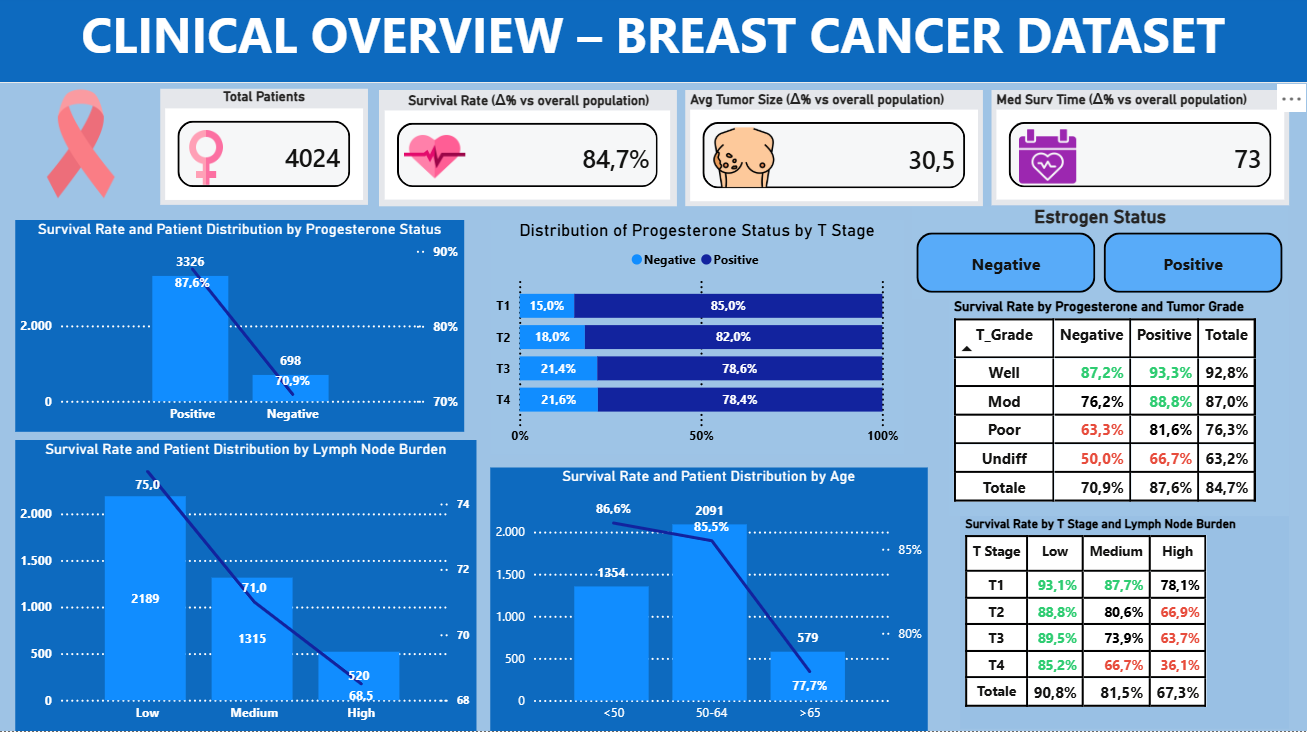

The dashboard page shown, as its layout file describes it:
{"tool":"powerbi","page":{"name":"Pagina 2","canvas":[1280,720],"ordinal":1},"visuals":[{"type":"cardVisual","title":"Survival Rate (Δ% vs overall population)","fields":{"Data":["dati.KPI Survival"]},"box":[371.7,92.9,291,113.7],"z":0},{"type":"advancedSlicerVisual","fields":{"Values":["dati.Estrogen Status"]},"box":[892.8,206.3,369.2,90.5],"z":1000},{"type":"cardVisual","title":"Avg Tumor Size (Δ% vs overall population)","fields":{"Data":["dati.KPI Tumor Size"]},"box":[671.3,92.9,291,113.7],"z":2000},{"type":"cardVisual","title":"Med Surv Time (Δ% vs overall population)","fields":{"Data":["dati.KPI Median Survival"]},"box":[970.9,92.9,291,112.5],"z":3000},{"type":"actionButton","box":[0,0,100,40],"z":4000},{"type":"cardVisual","title":"Total Patients","fields":{"Data":["dati.Total patient"]},"box":[157.3,92,203.3,113.7],"z":5000},{"type":"pivotTable","title":"Survival Rate by T Stage and Lymph Node Burden","fields":{"Columns":["dati.LODDS Category"],"Values":["dati.Survival Rate"],"Rows":["dati.T Stage "]},"box":[940,509.8,340.3,208],"z":6000},{"type":"lineStackedColumnComboChart","title":"Survival Rate and Patient Distribution by Age ","fields":{"Category":["dati.age cat"],"Y":["CountNonNull(dati.age cat)"],"Y2":["dati.Survival Rate"]},"box":[480.3,462.3,427.6,258.1],"z":7000},{"type":"lineStackedColumnComboChart","title":"Survival Rate and Patient Distribution by Lymph Node Burden","fields":{"Category":["dati.LODDS Category"],"Y":["CountNonNull(dati.LODDS Category)"],"Y2":["dati.Median Survival (Months)"]},"box":[15.7,435.5,451.2,284.7],"z":8000},{"type":"pivotTable","title":"Survival Rate by Progesterone and Tumor Grade","fields":{"Rows":["dati.Grade Short"],"Values":["dati.Survival Rate"],"Columns":["dati.Progesterone Status"]},"box":[929.7,296.6,332.6,213.2],"z":9000},{"type":"hundredPercentStackedBarChart","title":"Distribution of Progesterone Status by T Stage","fields":{"Category":["dati.T Stage "],"Y":["CountNonNull(dati.T Stage )"],"Series":["dati.Progesterone Status"]},"box":[480.6,220.1,404.8,229.9],"z":10000},{"type":"textbox","box":[0,0,1280.3,85.6],"z":11000},{"type":"image","box":[2.4,85.9,154.9,119.8],"z":12000},{"type":"image","box":[395.9,93.8,59.7,127.9],"z":13000},{"type":"image","box":[693.4,122.2,70.2,71.4],"z":14000},{"type":"image","box":[998.3,122.2,55.7,71.4],"z":15000},{"type":"image","box":[159.7,131.9,84.7,53.2],"z":16000},{"type":"lineStackedColumnComboChart","title":"Survival Rate and Patient Distribution by Progesterone Status","fields":{"Category":["dati.Progesterone Status"],"Y":["CountNonNull(dati.Progesterone Status)"],"Y2":["dati.Survival Rate"]},"box":[15.7,219.6,439.1,207.5],"z":17000}]}

Visuals, with their boxes in screenshot pixels (x1, y1, x2, y2), scaled from the page's 1280x720 canvas onto the 1307x732 screenshot:
"Survival Rate (Δ% vs overall population)" cardVisual: 380/94/677/210
advancedSlicerVisual - dati.Estrogen Status: 912/210/1289/302
"Avg Tumor Size (Δ% vs overall population)" cardVisual: 685/94/983/210
"Med Surv Time (Δ% vs overall population)" cardVisual: 991/94/1289/209
actionButton: 0/0/102/41
"Total Patients" cardVisual: 161/94/368/209
"Survival Rate by T Stage and Lymph Node Burden" pivotTable: 960/518/1306/730
"Survival Rate and Patient Distribution by Age " lineStackedColumnComboChart: 490/470/927/731
"Survival Rate and Patient Distribution by Lymph Node Burden" lineStackedColumnComboChart: 16/443/477/731
"Survival Rate by Progesterone and Tumor Grade" pivotTable: 949/302/1289/518
"Distribution of Progesterone Status by T Stage" hundredPercentStackedBarChart: 491/224/904/458
textbox: 0/0/1306/87
image: 2/87/161/209
image: 404/95/465/225
image: 708/124/780/197
image: 1019/124/1076/197
image: 163/134/250/188
"Survival Rate and Patient Distribution by Progesterone Status" lineStackedColumnComboChart: 16/223/464/434
